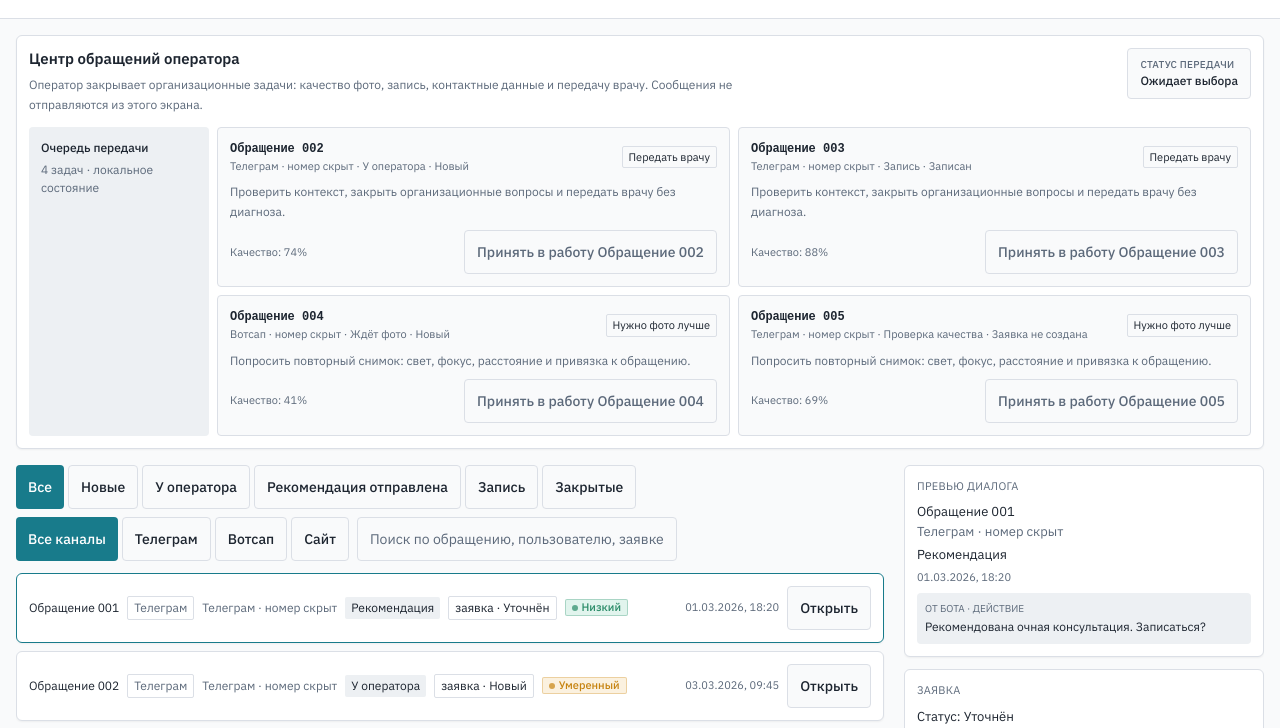
Test: Protected link badge — screen reader announces state change via aria-live/aria-atomic › aria-atomic=true важно: внутренний текст пилюли тоже обновляется и читается целиком
Click the text "Обращение 002": (450, 686) [16,650,884,720]
(page scrolled)
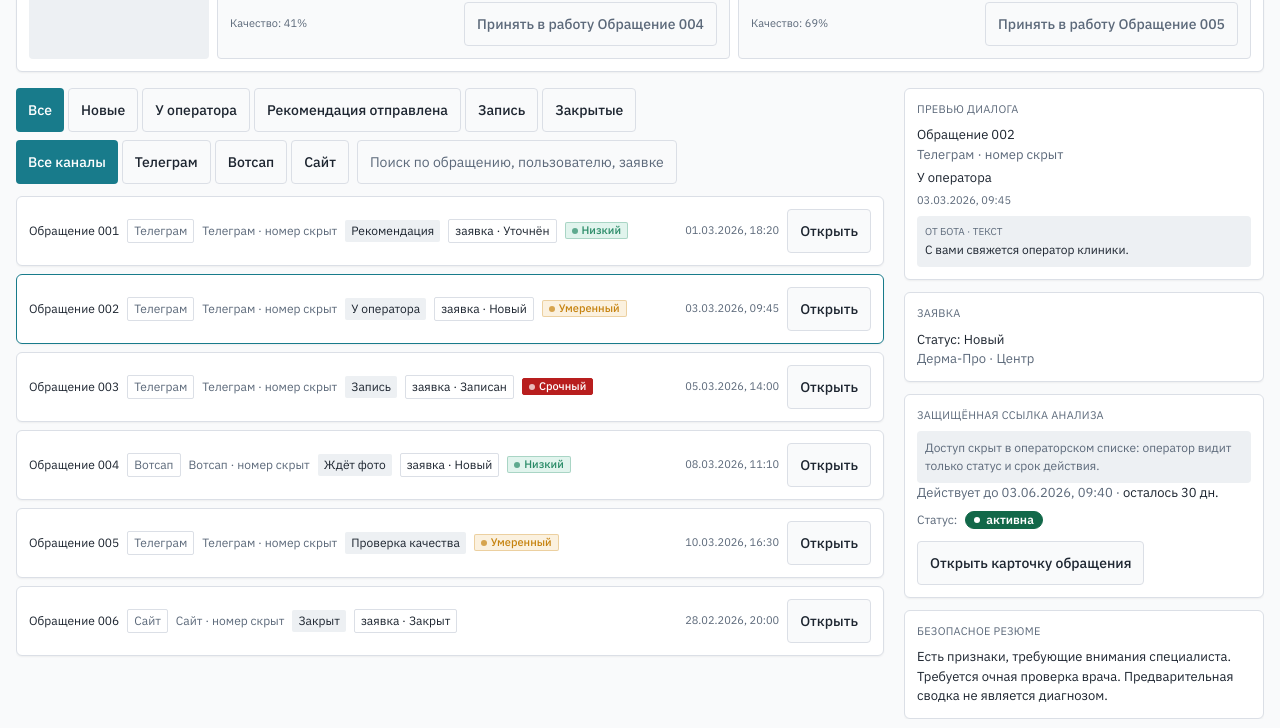
Check: the text "активна" is shown, box [986,514,1034,526]
